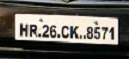1: (109, 26, 115, 41)
2: (41, 24, 49, 38)
5: (94, 26, 101, 39)
6: (49, 24, 57, 38)
7: (101, 26, 109, 40)
8: (85, 26, 93, 39)
C: (61, 25, 69, 39)
H: (19, 23, 29, 37)
K: (70, 25, 80, 39)
R: (29, 24, 38, 37)
